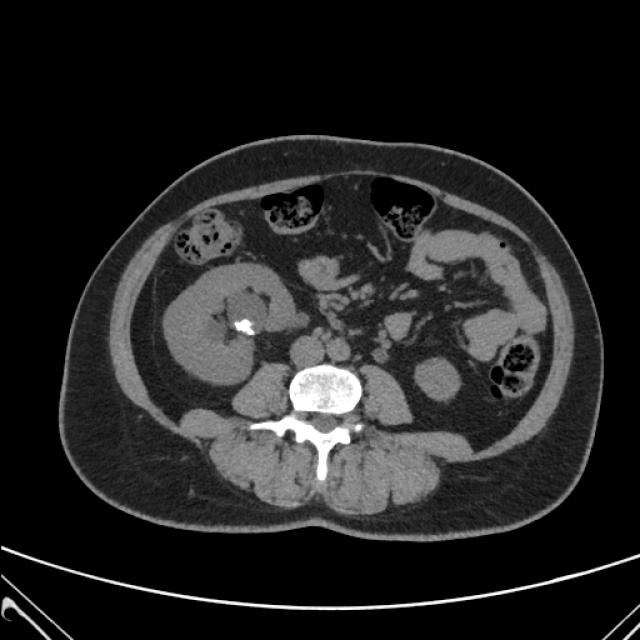kidney: (203, 284, 282, 361), (420, 364, 455, 396)
stone: (236, 320, 254, 334)
